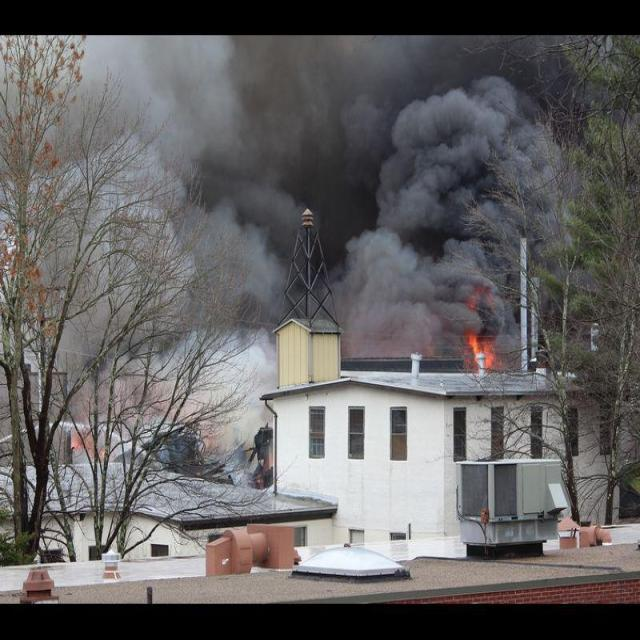Fire: (463, 333, 496, 373)
Smoke: (1, 35, 626, 488)
